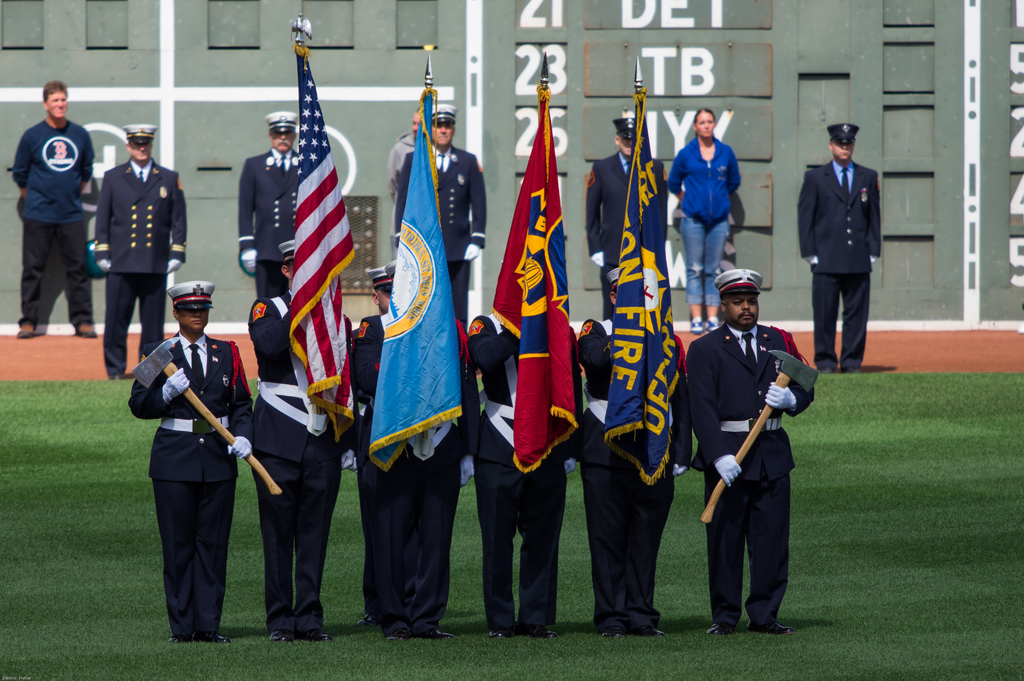Person: (12, 79, 883, 644)
